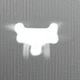plane: (3, 20, 65, 59)
